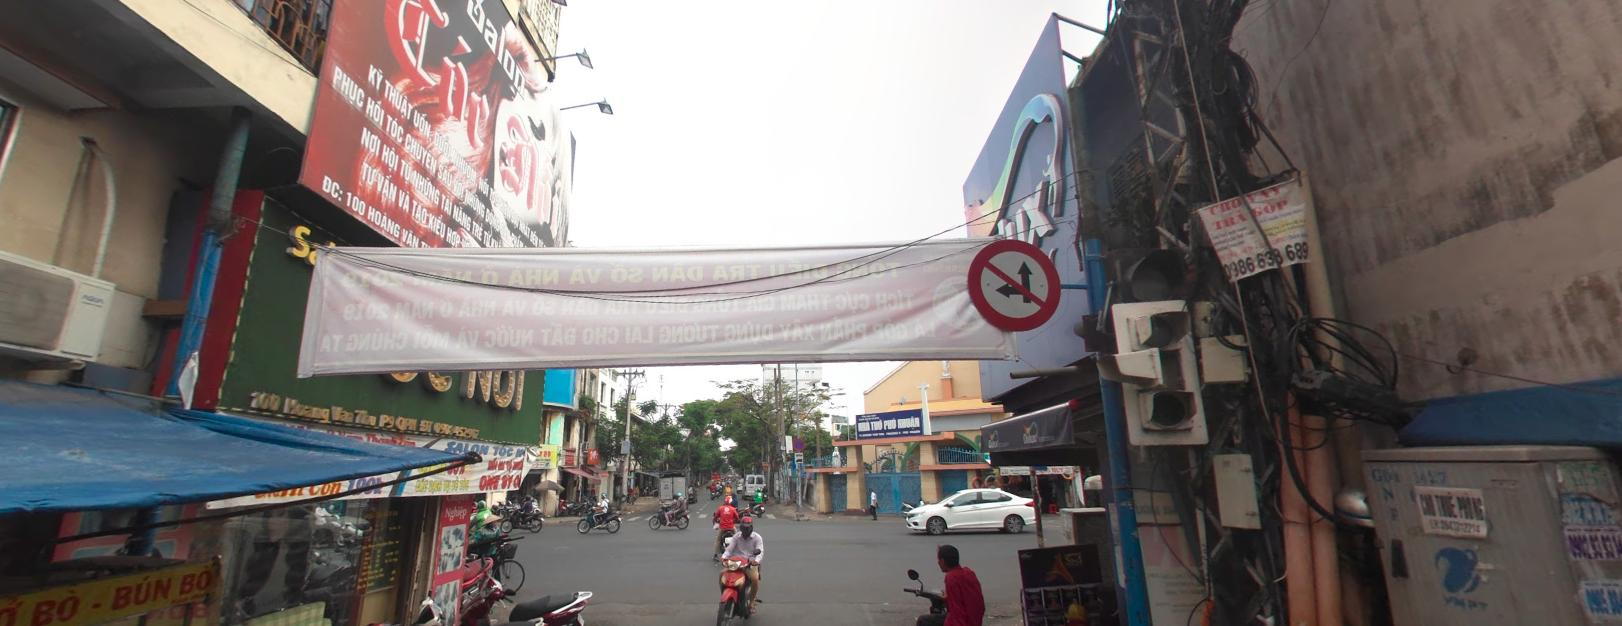Cam dung va do: (791, 436, 804, 449)
Cam re: (964, 234, 1060, 329)
